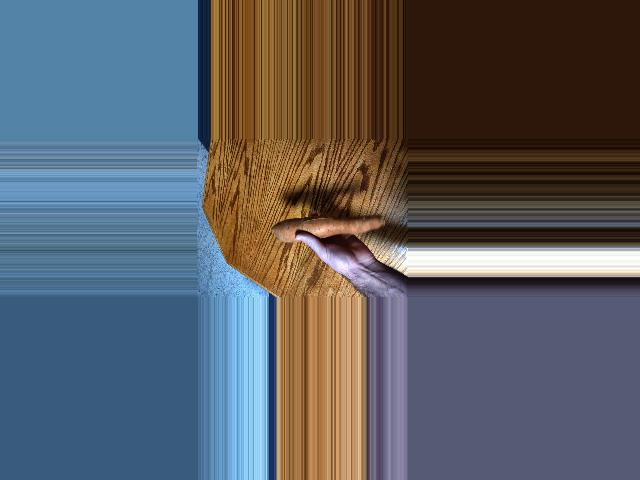sweet_potato: (274, 212, 389, 238)
